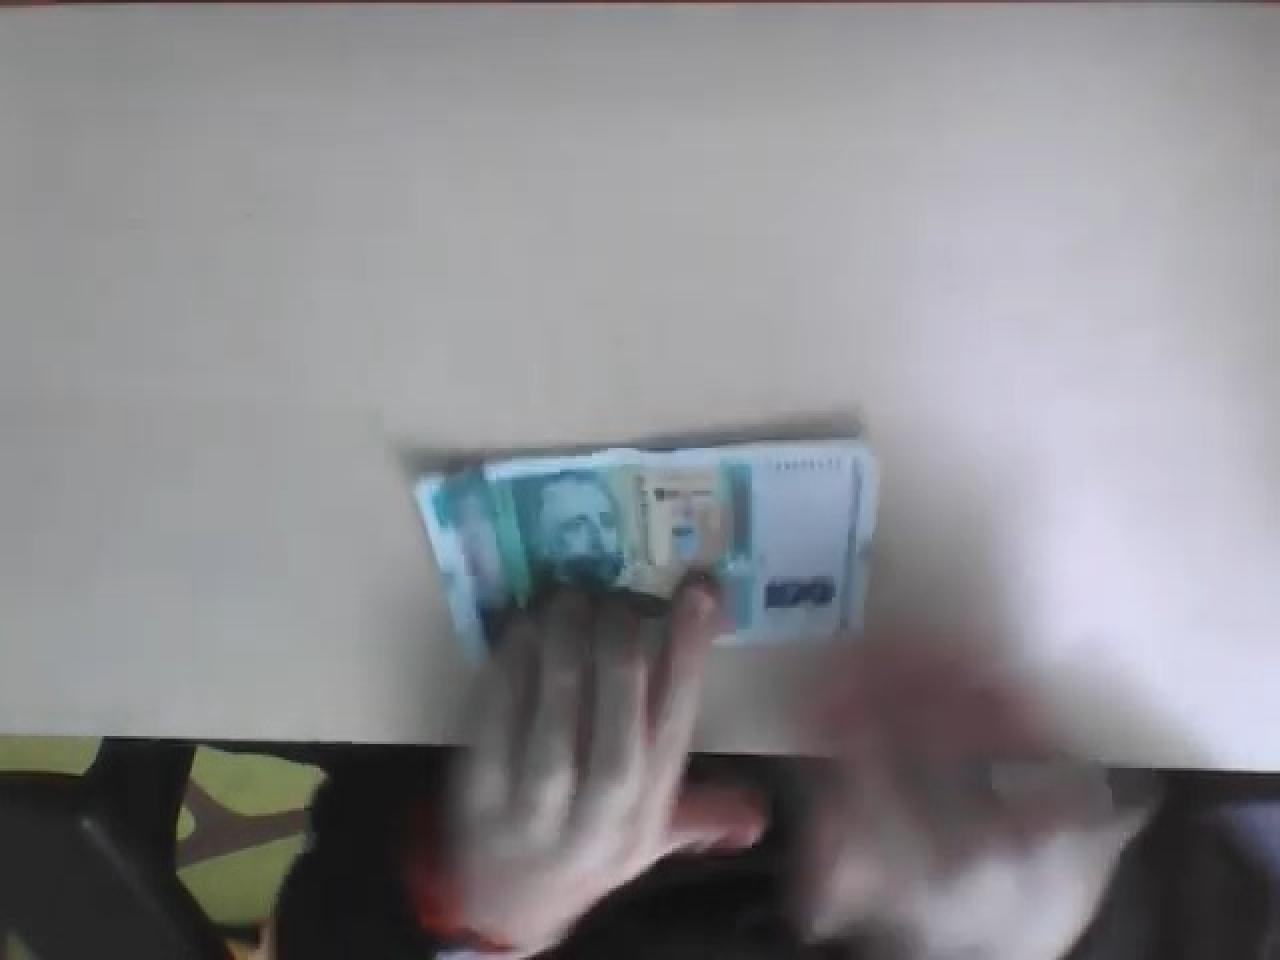100leva: (414, 435, 882, 670)
